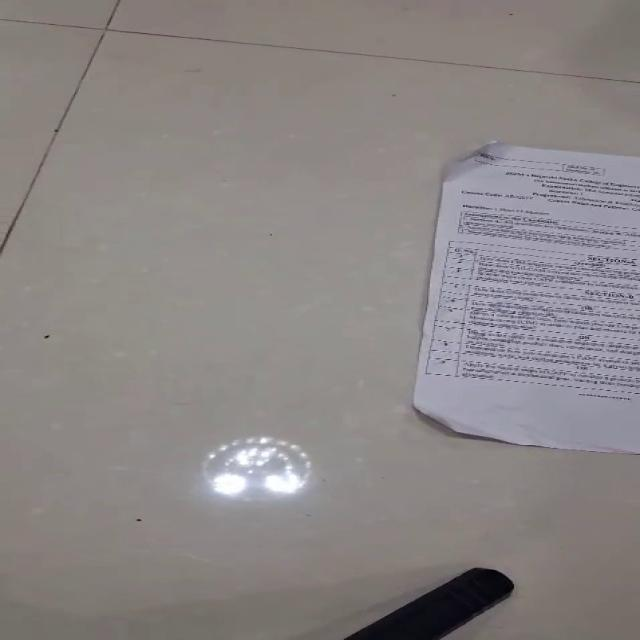paper: (410, 139, 638, 454)
